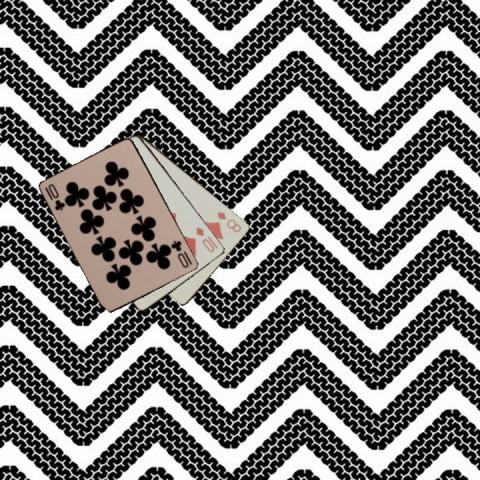10c: (168, 237, 194, 270), (42, 181, 67, 212)
10d: (193, 224, 220, 254)
8d: (215, 209, 243, 234)
